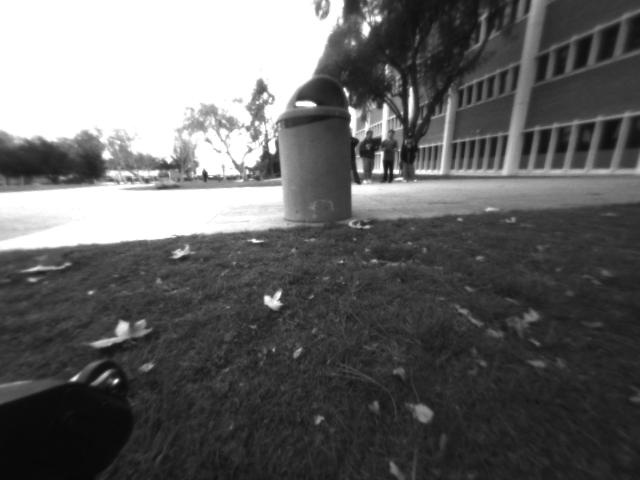trashcan: (272, 76, 358, 234)
